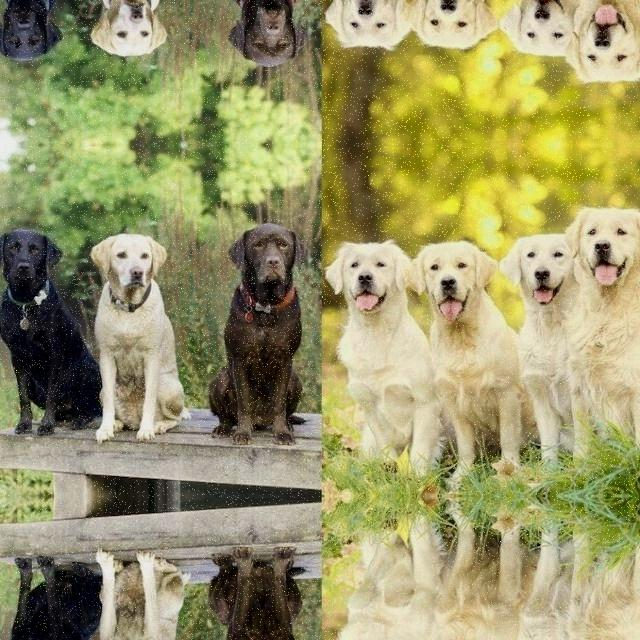dog: (200, 207, 302, 479), (98, 216, 196, 474), (328, 230, 419, 494), (0, 201, 98, 444), (418, 220, 504, 480), (505, 207, 587, 476), (200, 511, 302, 640), (329, 496, 420, 640), (98, 516, 196, 640), (419, 510, 504, 640), (505, 515, 587, 640), (0, 546, 98, 640), (0, 0, 98, 87), (200, 0, 302, 81), (98, 0, 196, 71), (505, 0, 587, 81), (419, 0, 504, 68), (329, 0, 420, 58)
